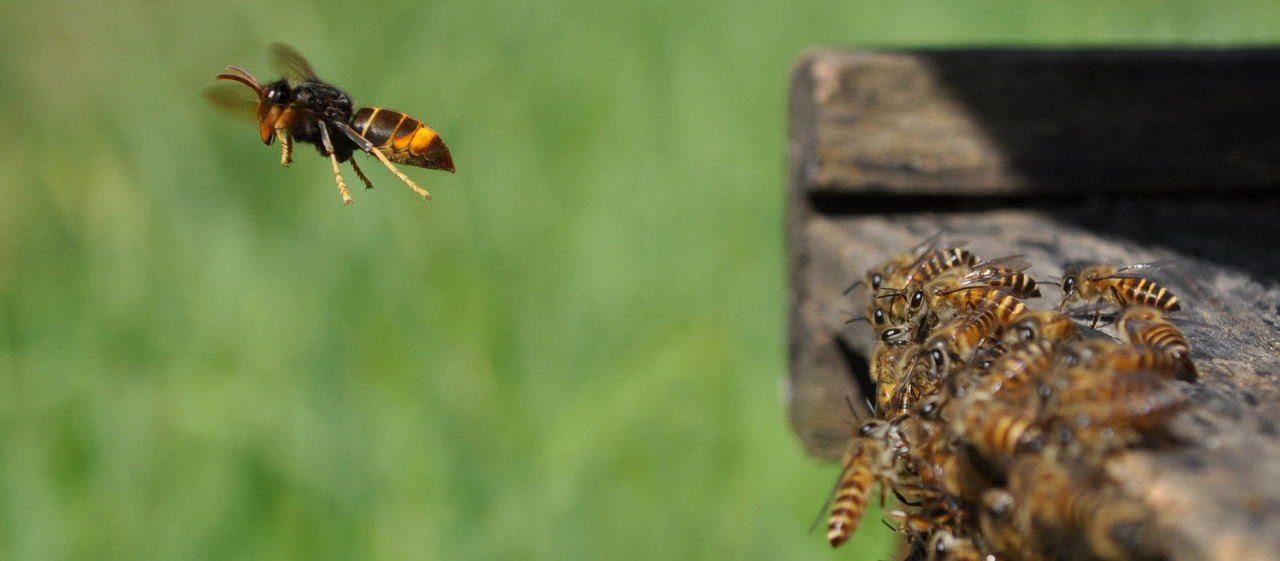bee: (940, 345, 1161, 464), (893, 423, 1027, 561), (900, 264, 1037, 337), (1061, 259, 1187, 326), (865, 345, 981, 415), (857, 251, 969, 321), (827, 417, 884, 544)
hornet: (195, 48, 469, 215)
